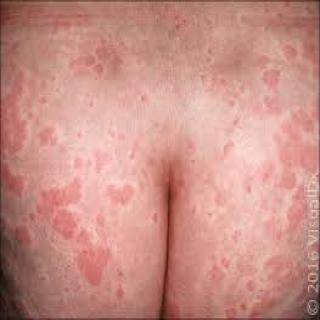urticaria: (44, 165, 125, 290), (2, 166, 38, 300), (2, 73, 57, 158), (232, 270, 313, 319), (279, 191, 316, 290), (272, 101, 317, 182), (288, 22, 320, 94), (257, 53, 286, 113), (80, 40, 126, 70)
